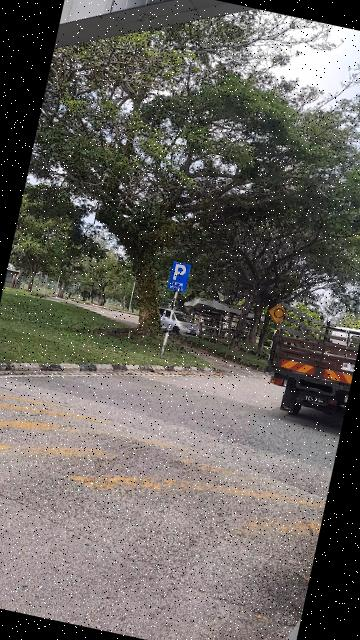License_Plate: (300, 392, 328, 409)
lorry: (256, 301, 360, 429)
